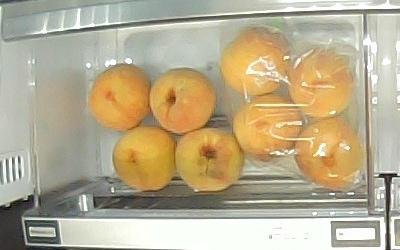peach: (150, 67, 218, 133), (233, 96, 304, 158), (175, 129, 243, 193), (88, 63, 150, 132), (112, 125, 175, 192)
peach_vinyl: (218, 27, 291, 96), (295, 118, 361, 189), (233, 95, 303, 161), (288, 50, 355, 118)
